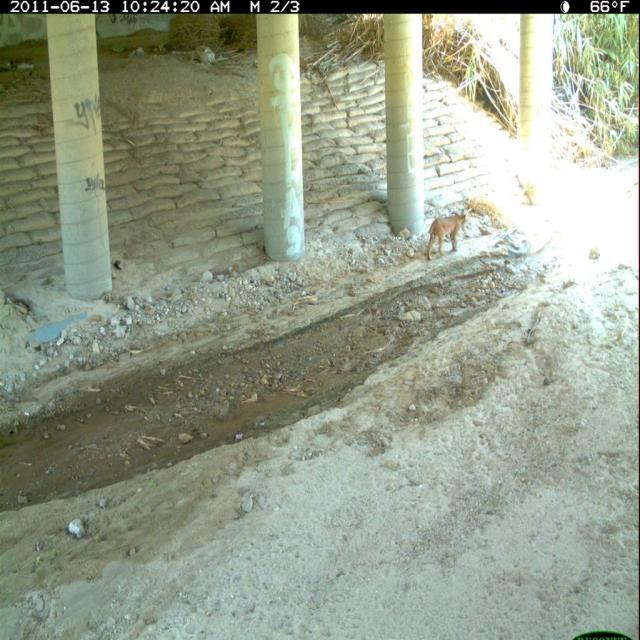bobcat: (424, 208, 473, 267)
